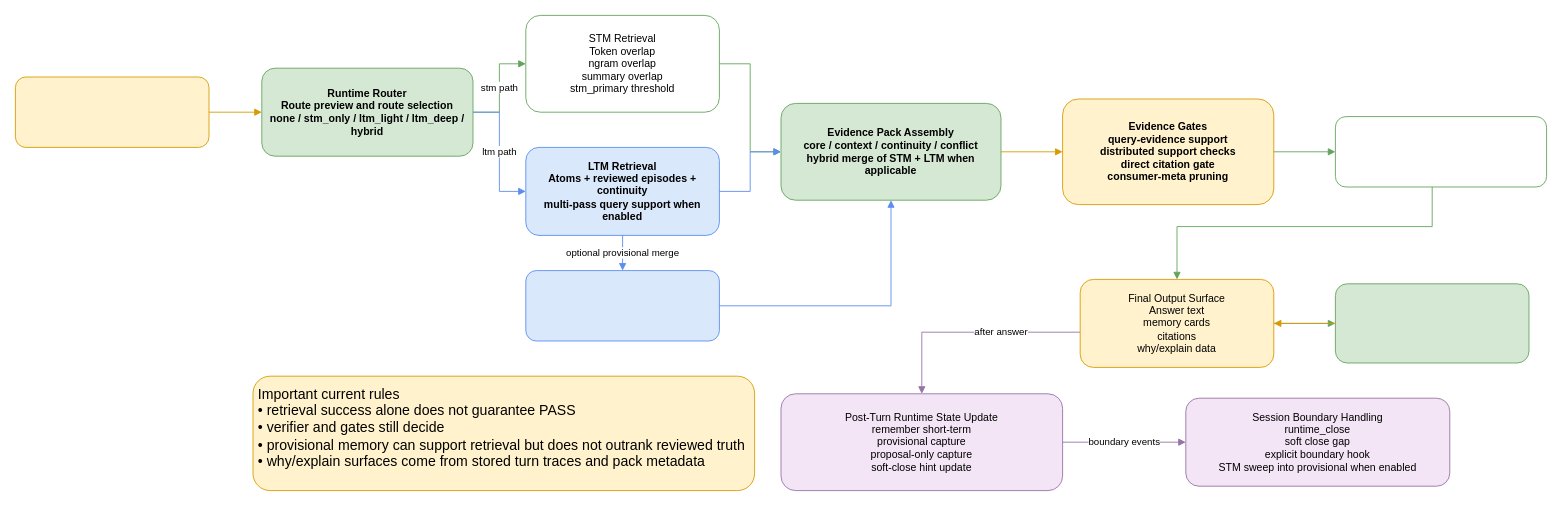
Some shapes in this 1562 by 506 pixel diagram are drawn without their labels. Each missing label, with the centre of its shape:
Incoming Turn Desktop / native chat / integration-v1 / MCP / adapter: the point at 112,111
Provisional Retrieval Optional lower-trust merge into LTM pack: the point at 622,305
Responder / Draft Answer Composes answer from bounded evidence package: the point at 1441,151
Verifier Outcome PASS / ABSTAIN / CLARIFY / NO_MEMORY: the point at 1432,323
